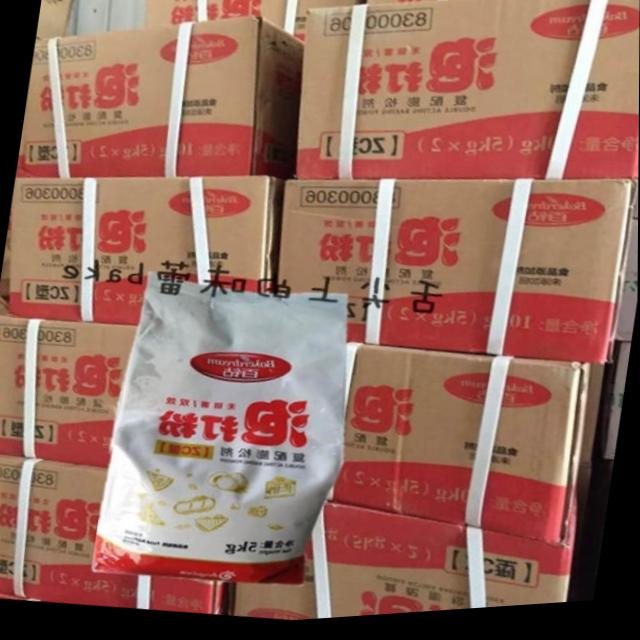box: (275, 183, 638, 373), (296, 0, 640, 188), (323, 346, 593, 554), (16, 19, 304, 183), (7, 178, 284, 328), (236, 506, 581, 624), (0, 455, 226, 618), (0, 314, 140, 469), (146, 0, 360, 45), (36, 0, 75, 40), (369, 0, 524, 10)
